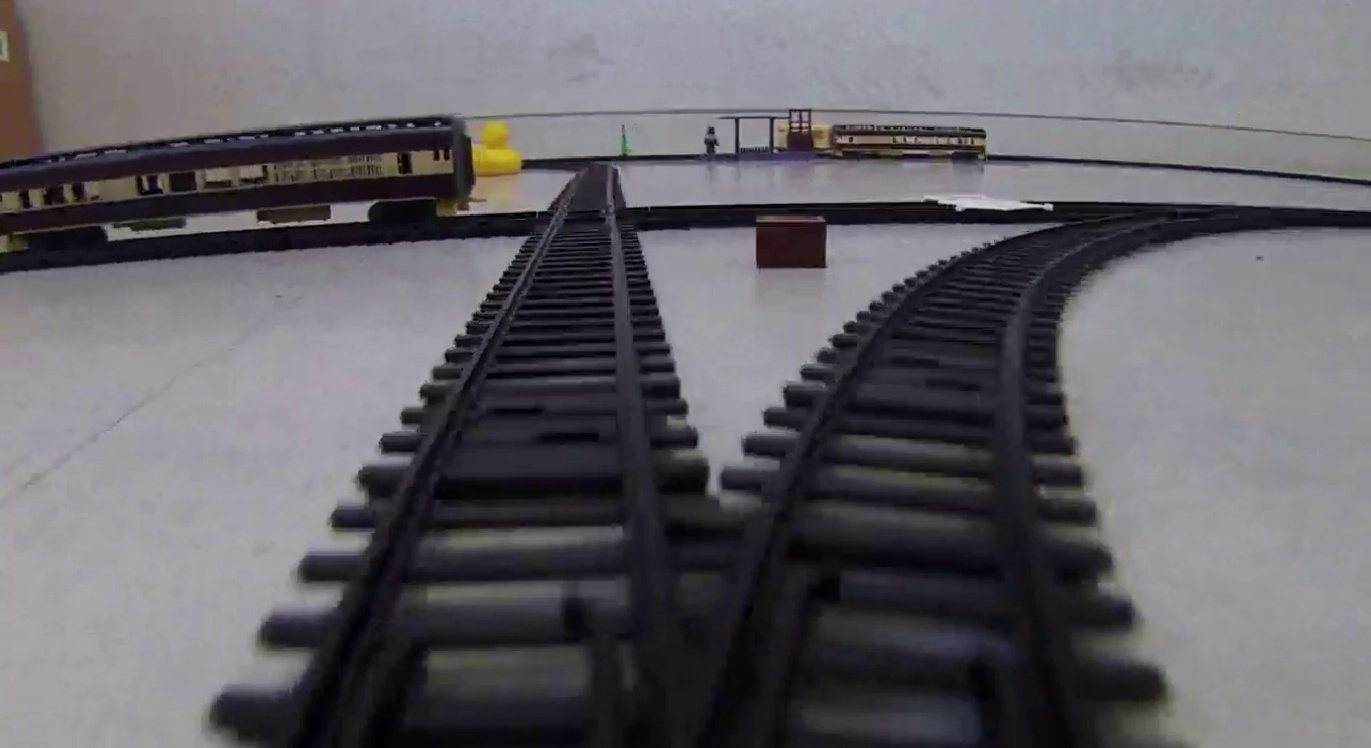box: (753, 213, 829, 270)
web: (920, 191, 1056, 215)
